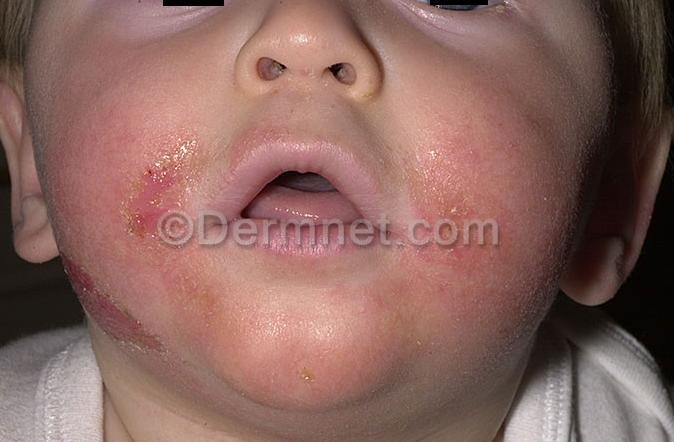Eritema 2: (413, 80, 555, 292), (70, 47, 189, 272)
eritema 1: (226, 123, 288, 164)
excoriacion 2: (56, 236, 181, 367), (100, 125, 195, 276)
exudacion 2: (53, 239, 164, 362), (117, 146, 187, 251)
